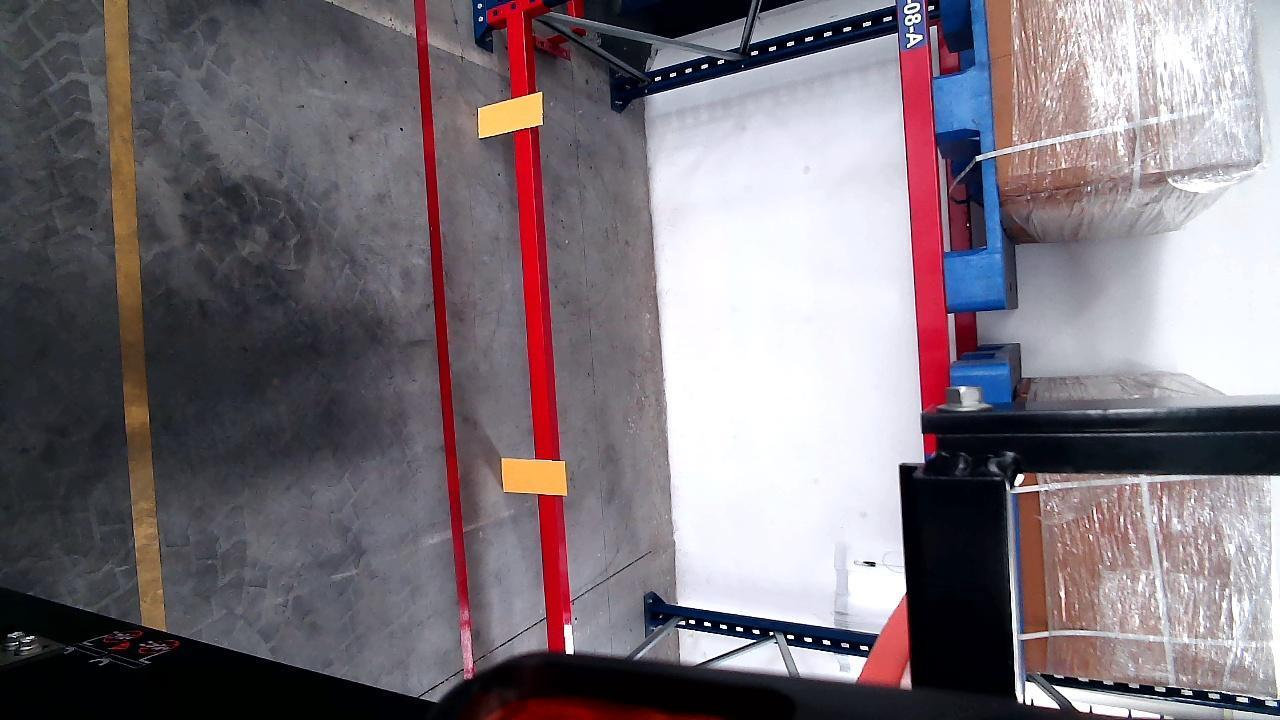h_rack: (508, 10, 571, 659), (484, 15, 531, 658), (895, 0, 951, 415)
orange_strip: (477, 93, 541, 138), (501, 457, 567, 495)
red_line: (421, 0, 467, 671)
small_pallet: (924, 0, 1005, 305)
yellow_line: (101, 0, 165, 630)
